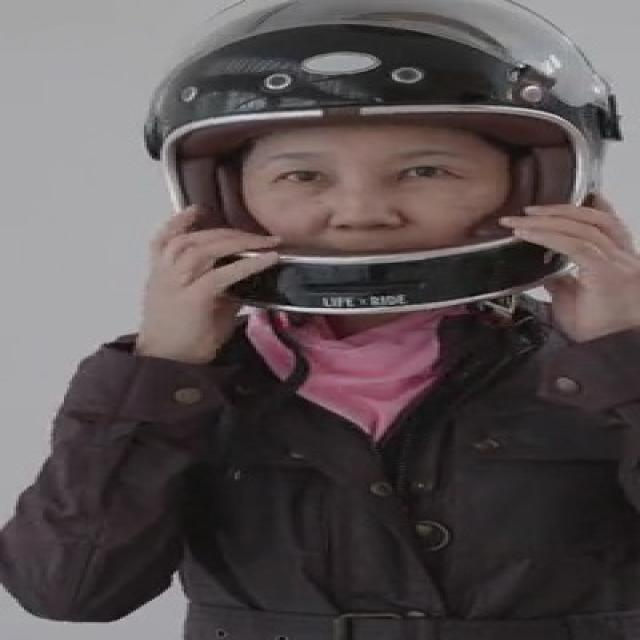Helmet_Wearer: (117, 2, 593, 329)
Person: (5, 0, 640, 640)
